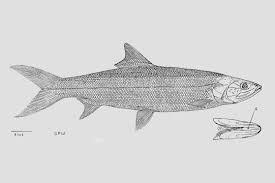Tenpounder: (10, 42, 263, 133)
